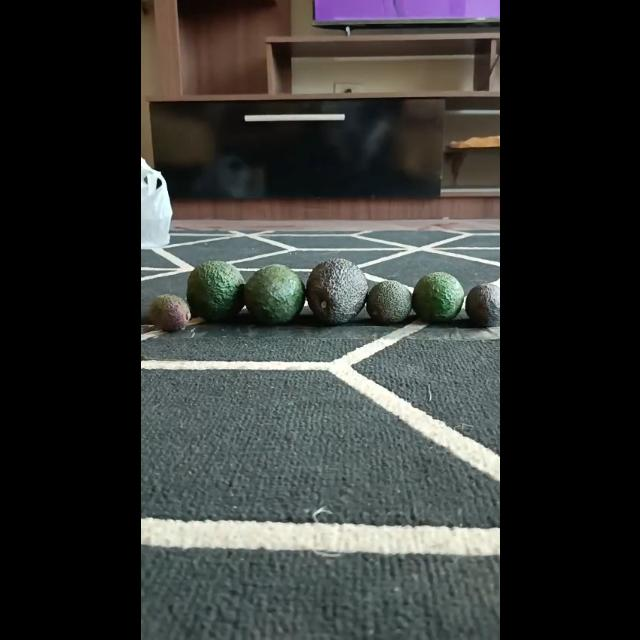Primera: (306, 258, 368, 324), (242, 264, 304, 324), (184, 260, 246, 320)
Segunda: (411, 272, 464, 322)
Tercera: (364, 280, 412, 324), (146, 294, 192, 332), (464, 282, 498, 328)
